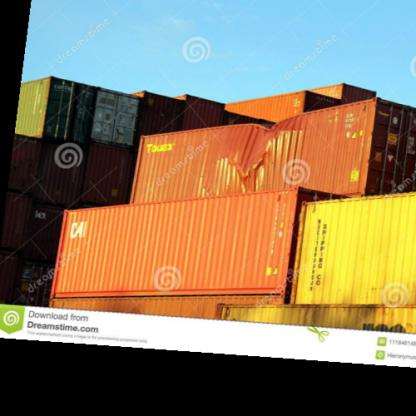Damage: (234, 113, 297, 190)
